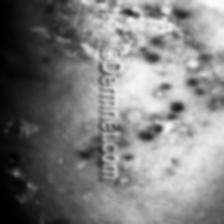Non-Cancerous Skin Condition: (127, 77, 212, 159), (128, 4, 200, 62), (41, 0, 103, 58), (1, 114, 37, 213), (72, 148, 94, 168), (40, 216, 76, 224)
